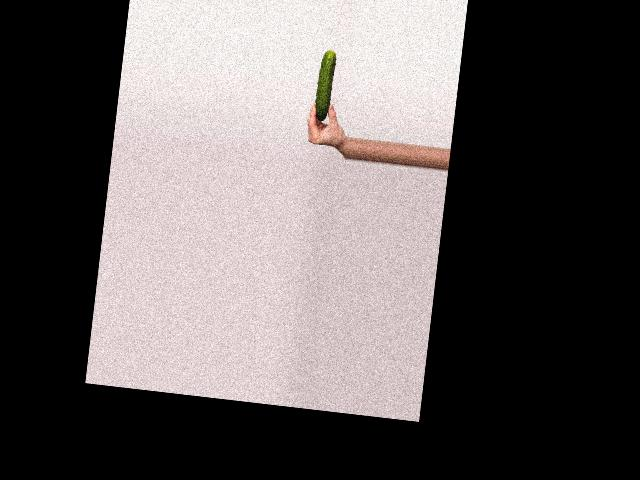cucumber: (313, 49, 336, 121)
